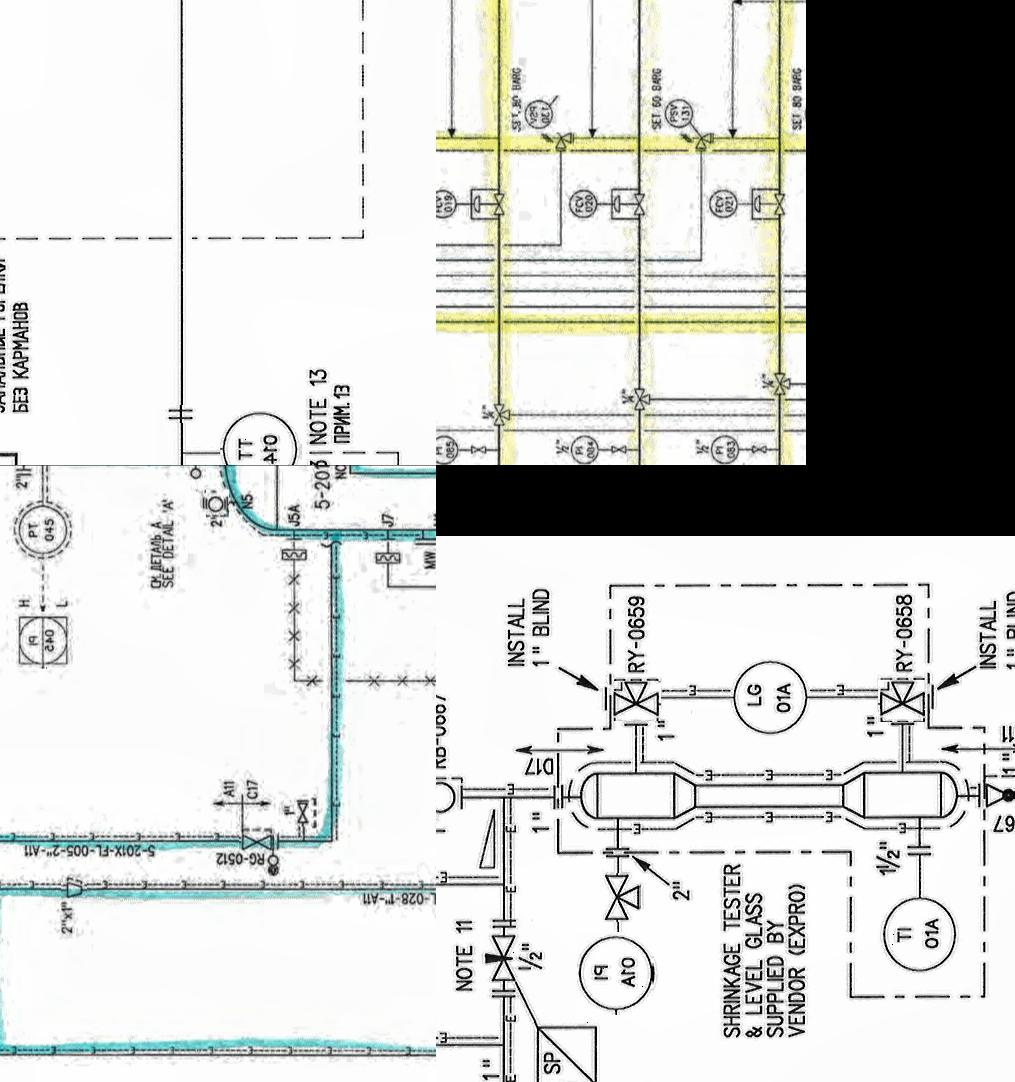3 WAY BALL VALVE: (490, 397, 518, 430), (769, 368, 794, 400), (630, 384, 654, 414)
3 WAY GENERAL VALVE: (878, 677, 926, 720), (613, 680, 661, 720), (604, 872, 640, 921)
ANGLE RELIEF VALVE: (532, 128, 584, 151), (682, 124, 721, 152)
CONCENTRIC REDUCER: (62, 876, 88, 900)
DCS ACCESSIBLE: (7, 610, 72, 668)
DIAPHRAGM ACTUATED VALVE: (611, 186, 660, 216), (468, 190, 520, 216), (752, 186, 794, 216)
DIAPHRAGM SEAL: (270, 546, 314, 566), (370, 544, 404, 567)
END FLANGED: (164, 403, 199, 421), (905, 842, 934, 857), (489, 986, 519, 998), (491, 917, 517, 929)
FIELD INSTRUMENT: (578, 931, 654, 1014), (730, 656, 808, 736), (881, 895, 958, 970), (221, 407, 302, 465), (12, 494, 72, 560), (518, 94, 562, 131), (701, 186, 741, 220), (565, 186, 602, 220), (568, 431, 602, 465), (664, 95, 695, 132), (707, 434, 745, 464), (436, 776, 459, 815), (436, 184, 459, 222), (436, 433, 461, 465), (206, 490, 228, 518)
GATE VALVE: (238, 830, 278, 850), (464, 439, 492, 463), (294, 797, 316, 826), (606, 437, 632, 458), (750, 439, 772, 457)
GLOBE VALVE: (986, 778, 1015, 808)
NEEDLE VALVE: (482, 933, 517, 982)
ORIFICE PLATE: (602, 842, 630, 860), (551, 782, 565, 808)
SPECIAL PIPING ITEM: (533, 1020, 601, 1082)
SPECTACLE BLIND OPEN: (266, 820, 284, 884)
